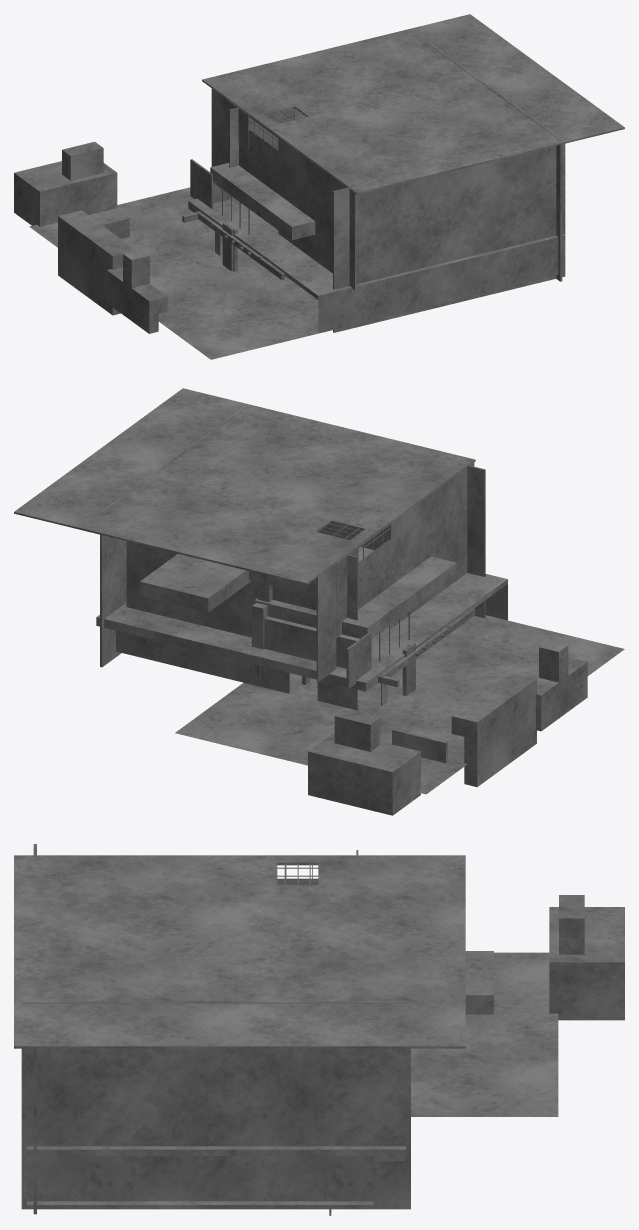
Rendered from buildingOneMeshlowUV.glb.
The picture shows the model from 3 angles, top to bottom: view 1: azimuth 30°, elevation 25°; view 2: azimuth 150°, elevation 25°; view 3: azimuth 270°, elevation 25°; orthographic projection. The views are drawn at different scales.
Parts seen in each view (by area): view 1: buildingLP; view 2: buildingLP; view 3: buildingLP.
Part boxes in pixels (<box>): buildingLP: <box>14,14,624,359</box>; buildingLP: <box>14,388,624,815</box>; buildingLP: <box>14,844,624,1215</box>.
Size of the model in its own units: 80.05 by 28.04 by 68.6.
1 material, 1 textured.
